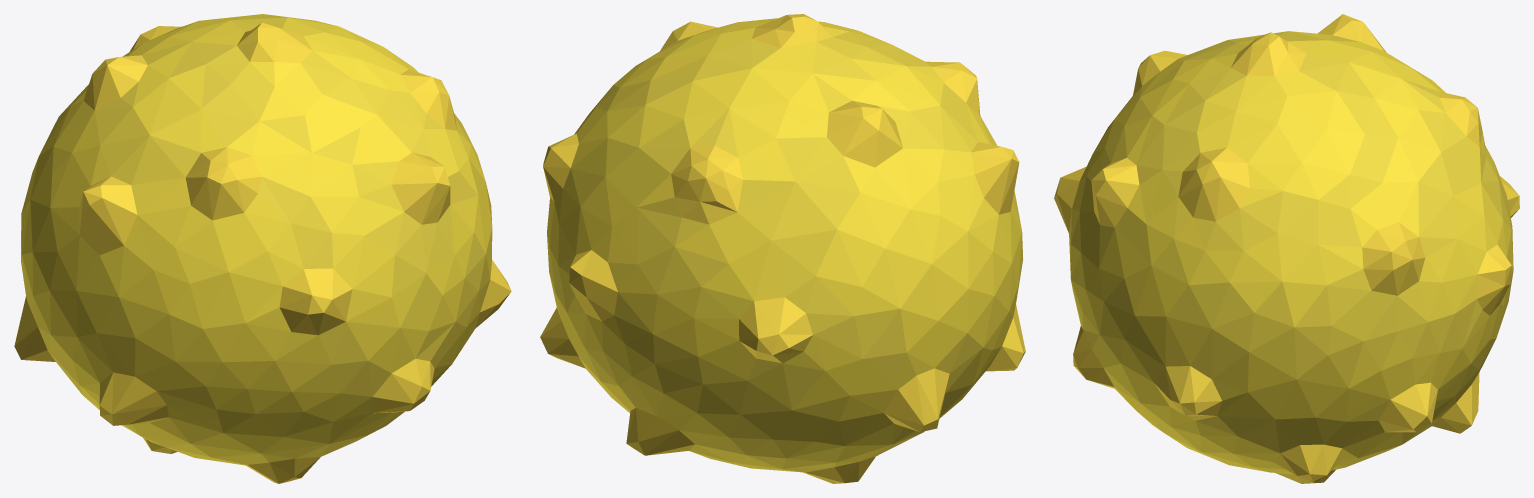
Rendered from Sun.glb.
3 renders of one model, left to right at view 1: azimuth 30°, elevation 25°; view 2: azimuth 150°, elevation 25°; view 3: azimuth 270°, elevation 25°, orthographic. The views are drawn at different scales.
Parts seen in each view (by area): view 1: Sun; view 2: Sun; view 3: Sun.
Boxes of the visible parts, left/top/right/bottom form: Sun: left=14, top=14, right=511, bottom=483; Sun: left=540, top=14, right=1025, bottom=483; Sun: left=1054, top=14, right=1519, bottom=483.
Bounding box in the file's own units: 100 × 100 × 100.
1 material, 1 textured.
